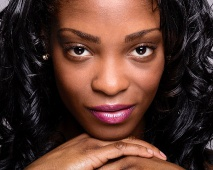female: (57, 16, 169, 137)
